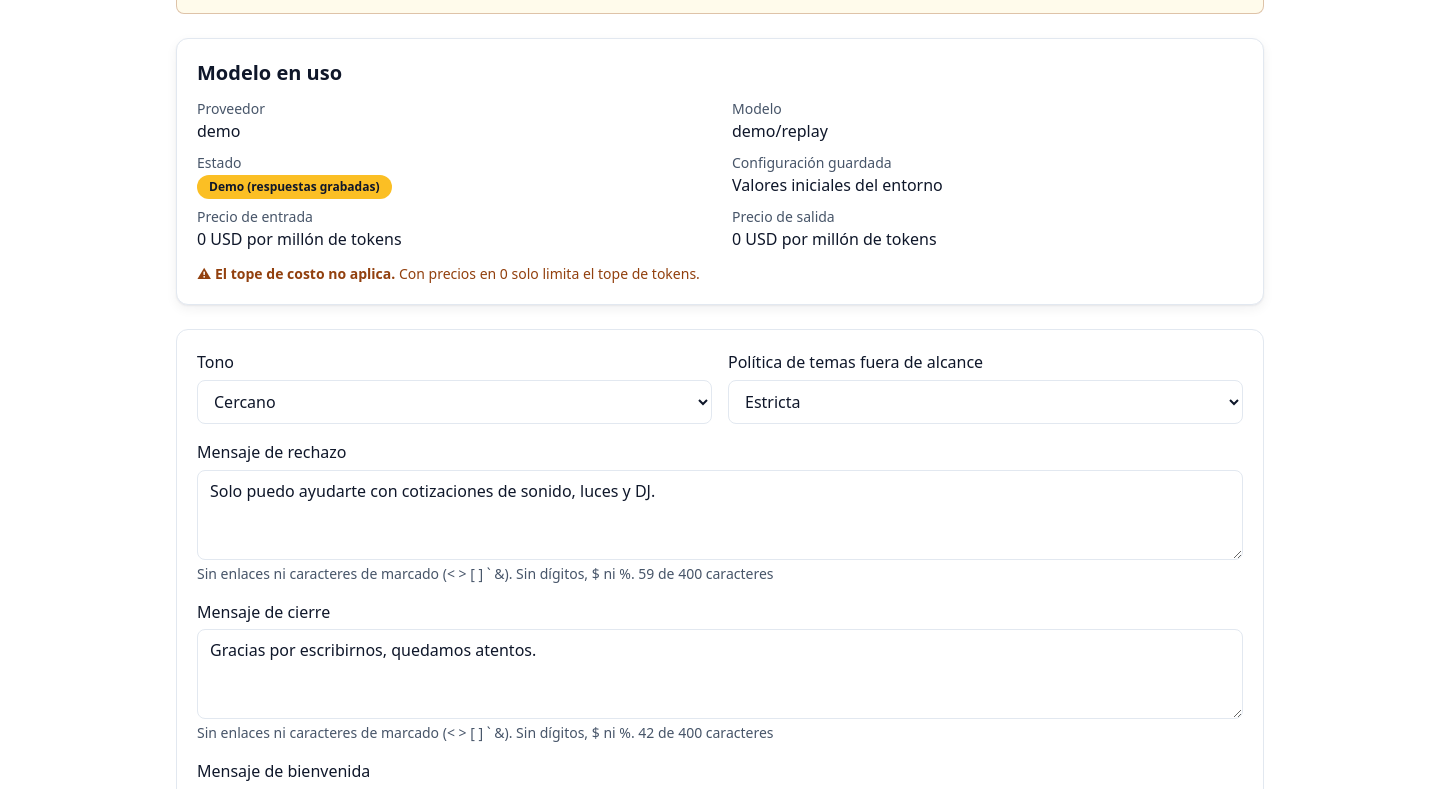
double confirmation › maps a 403 {"detail":"token_used"} answer to a step and a Spanish message
The width and height of the screenshot is (1440, 789).
(page scrolled)
Select "Formal" in the dropdown labelled "Tono": {"x": 454, "y": 402} [197,380,712,424]
(page scrolled)
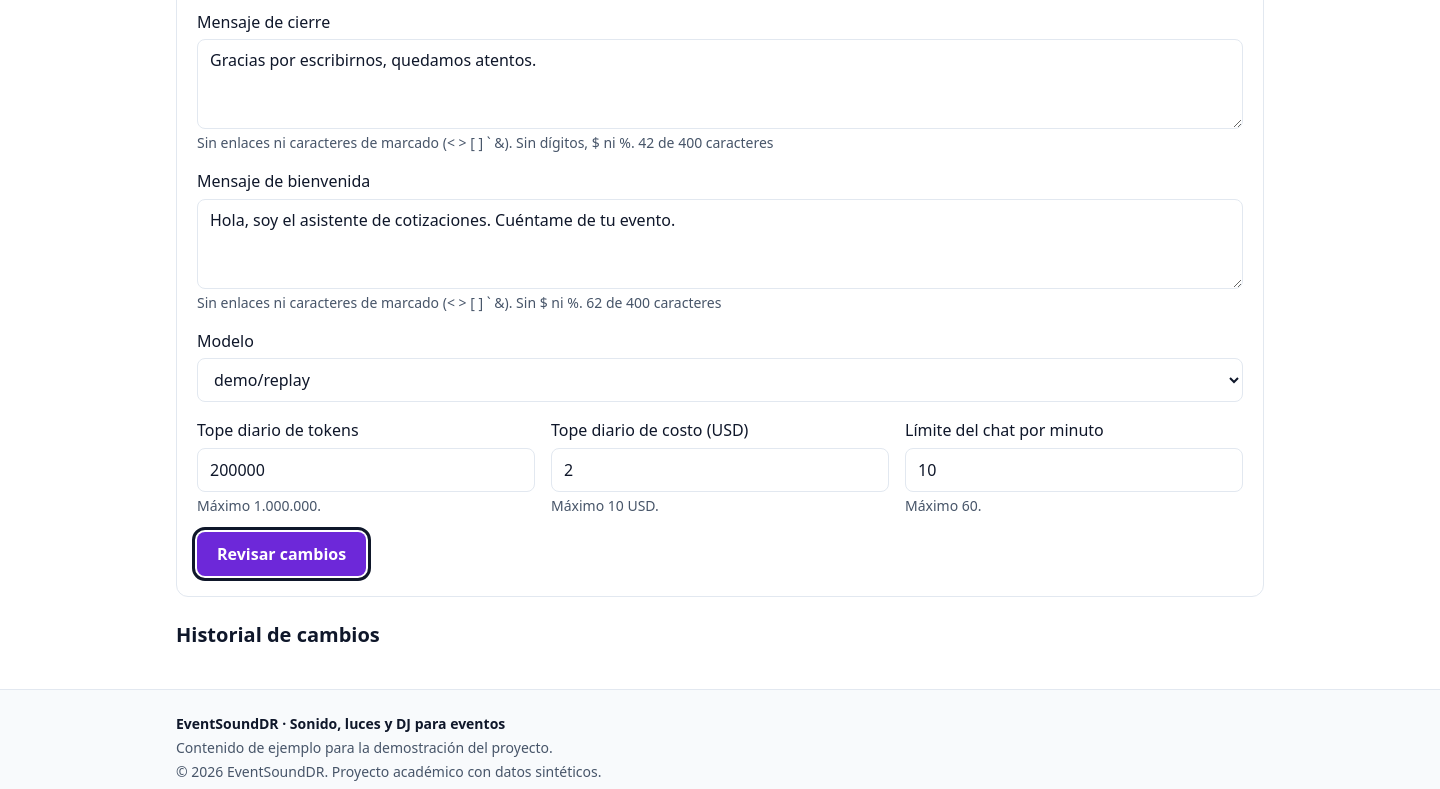
Click the button "Revisar cambios": {"x": 282, "y": 554} [197,532,366,576]
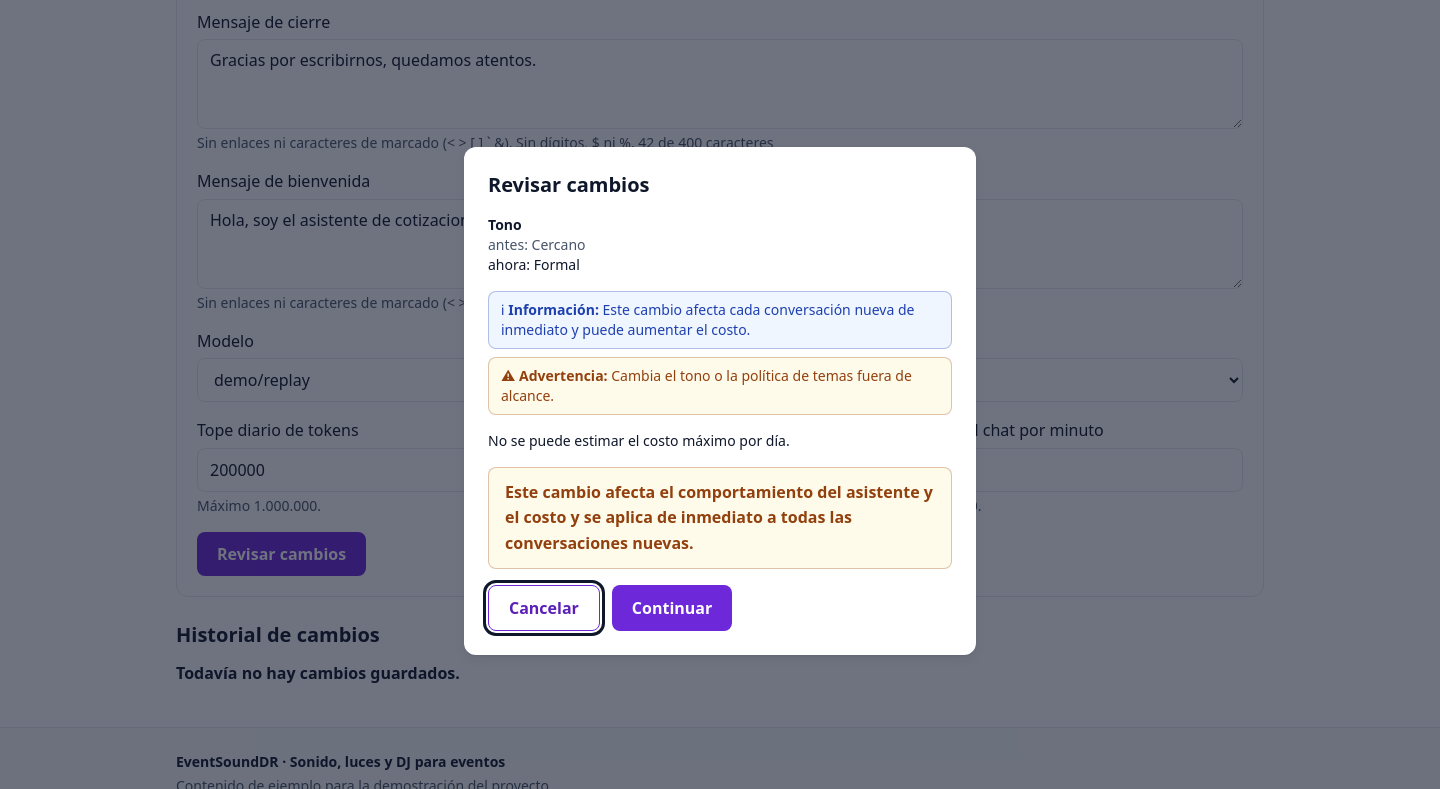
Click the button "Continuar": {"x": 672, "y": 608} [612,585,732,631]
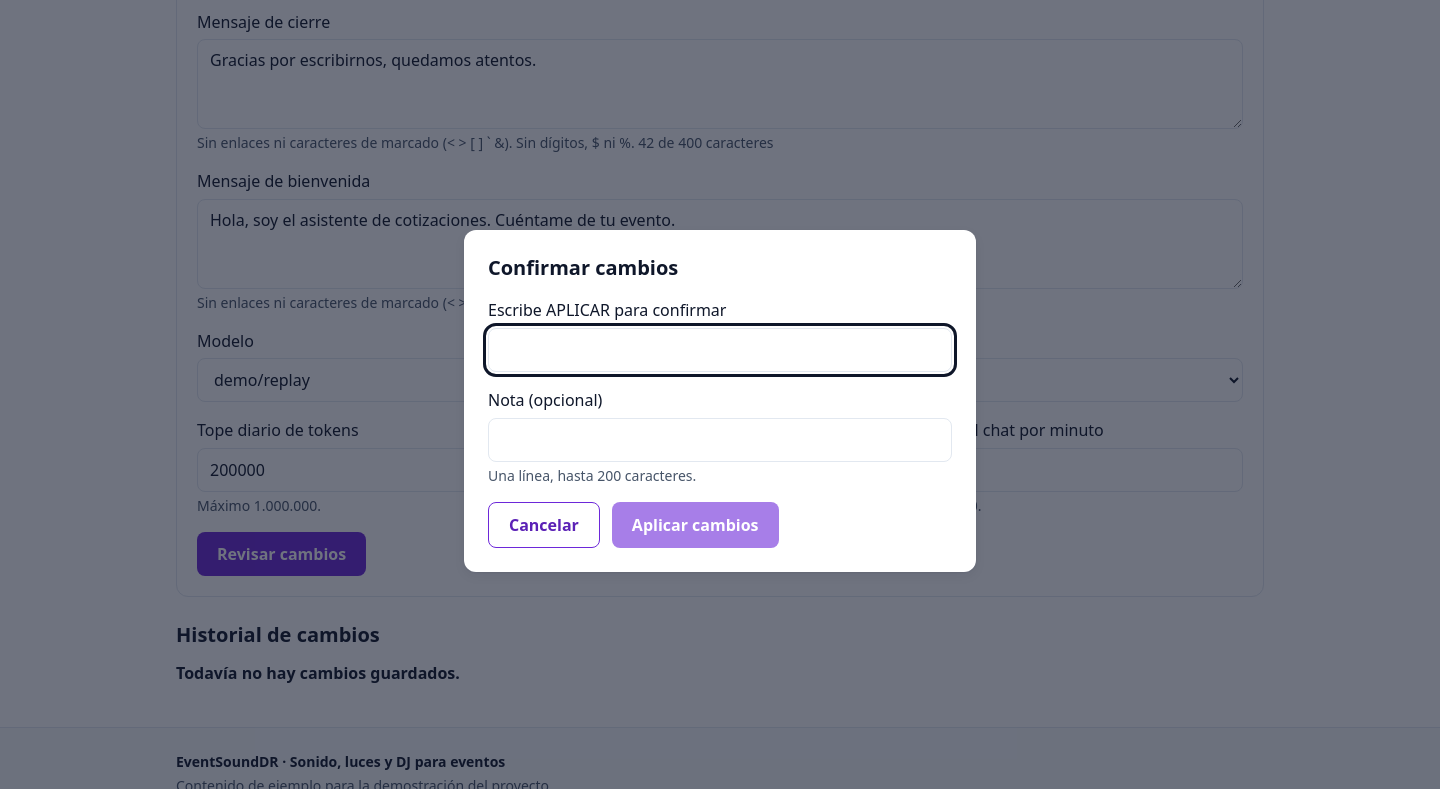
In the field labelled "Escribe APLICAR para confirmar": {"x": 720, "y": 350} [488,328,952,372], type "APLICAR"
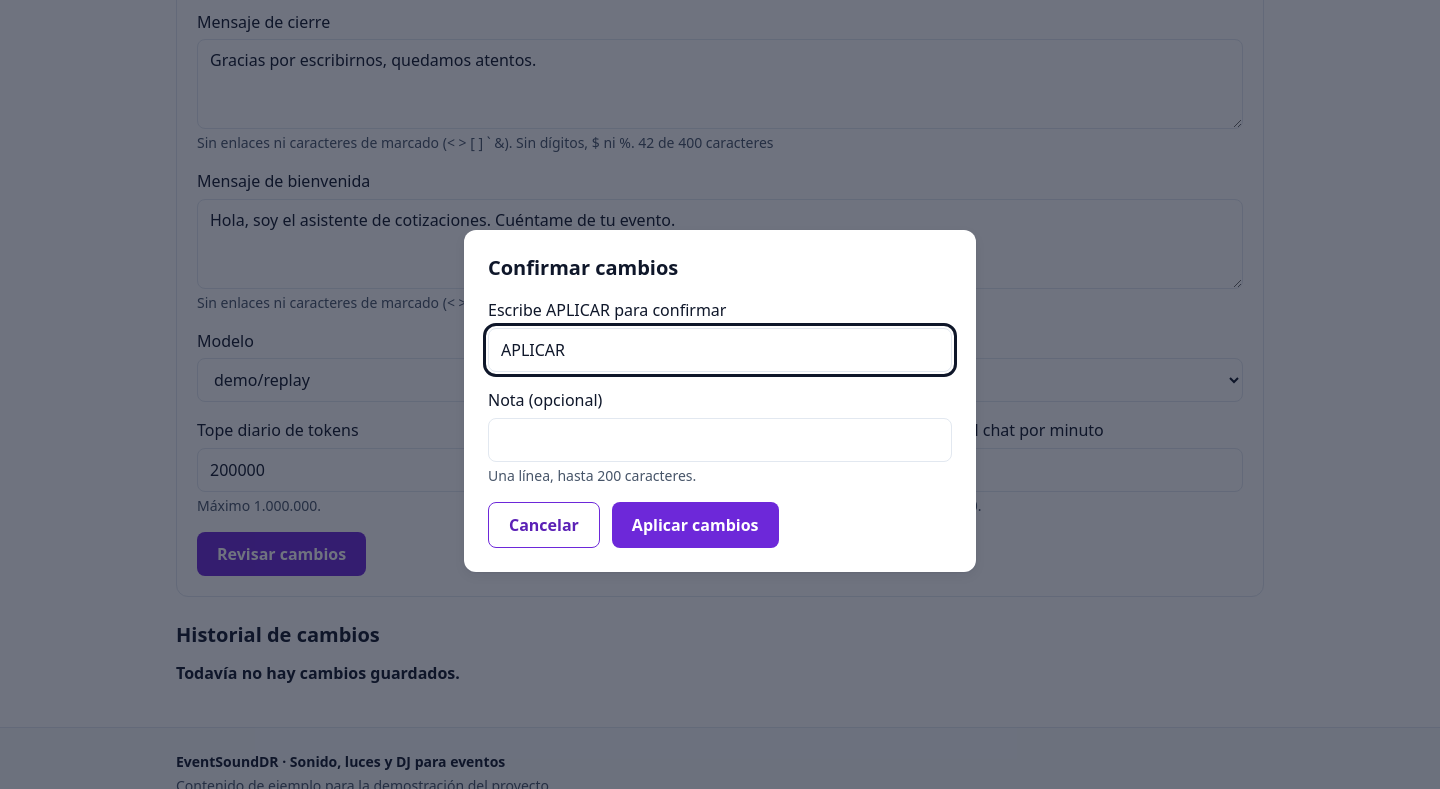
Click the button "Aplicar cambios": {"x": 695, "y": 525} [612,502,779,548]
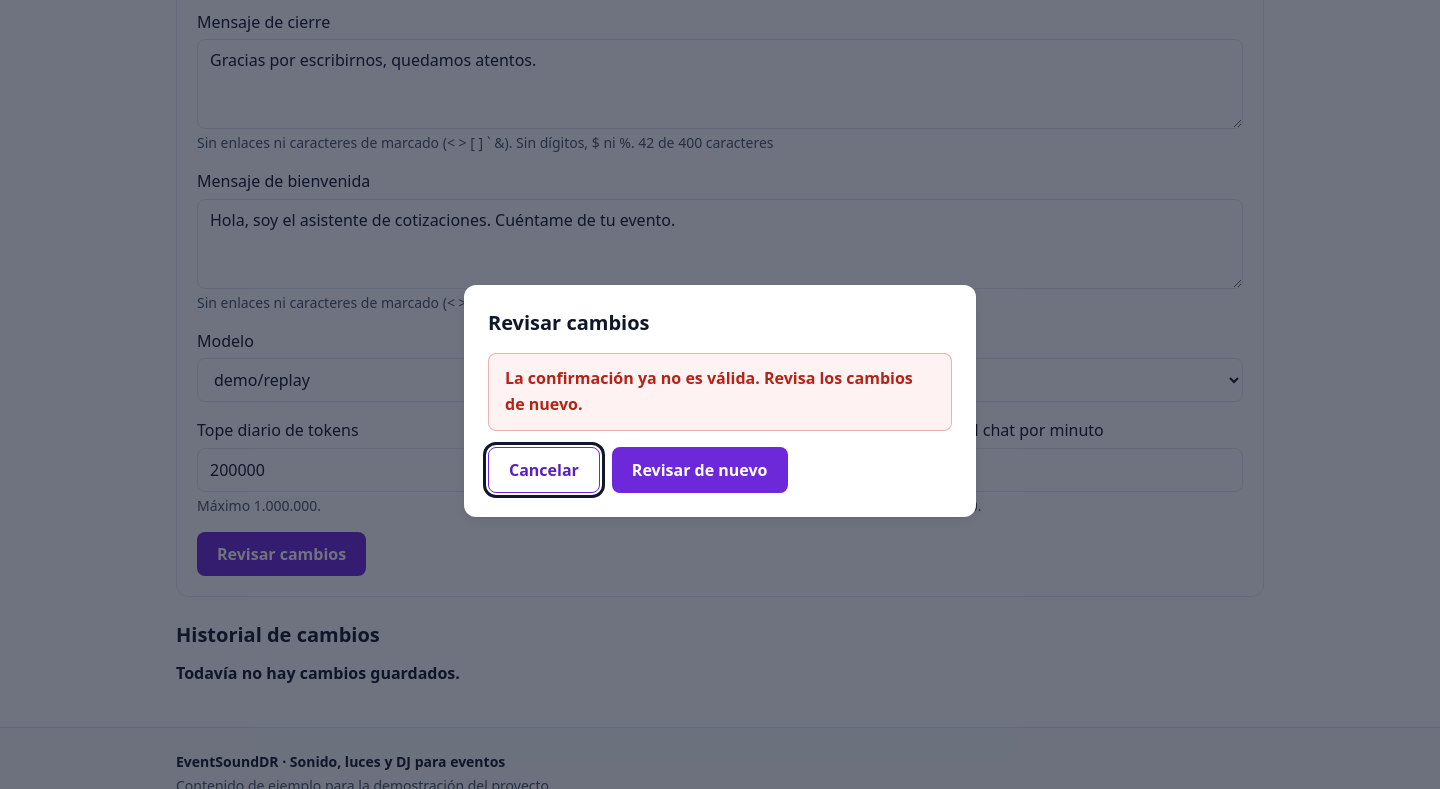
Expected: the message reads "La confirmación ya no es válida. Revisa los cambios de nuevo.", [505,367,913,415]
Expected: the button "Revisar de nuevo" is shown, [612,447,788,493]
